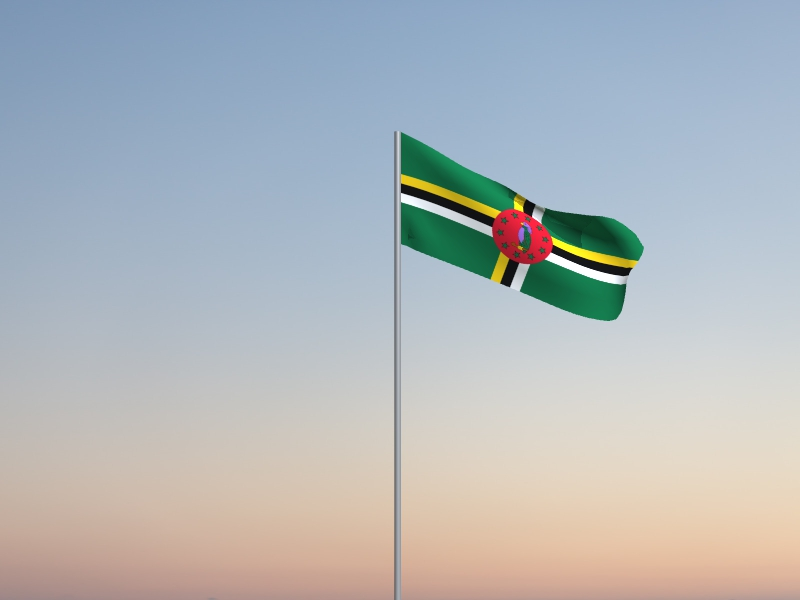dm: (402, 133, 646, 323)
